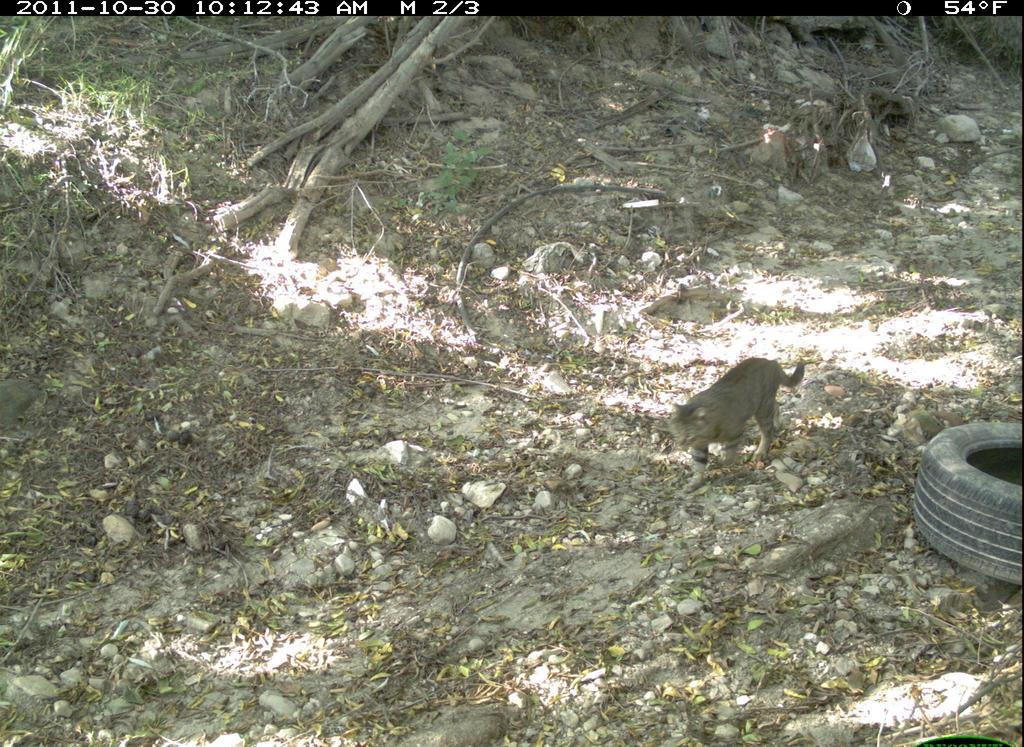cat: (665, 350, 811, 491)
